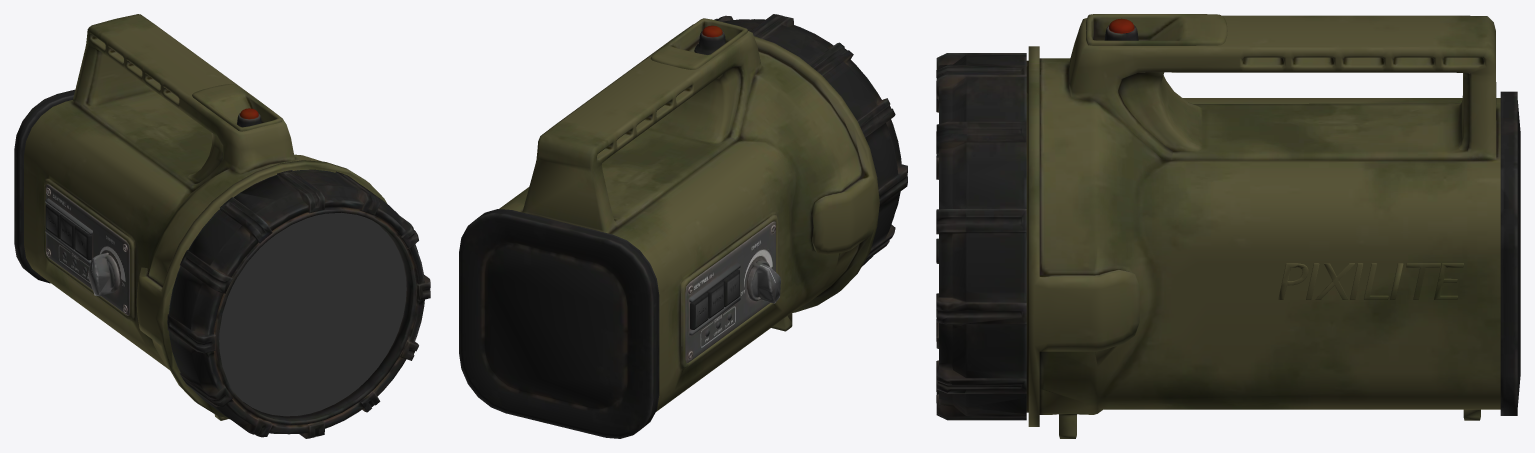
Rendered from portable_searchlight.glb.
The picture shows the model from 3 angles, left to right: view 1: azimuth 30°, elevation 25°; view 2: azimuth 150°, elevation 25°; view 3: azimuth 270°, elevation 25°; orthographic projection. The views are drawn at different scales.
Visible parts, largest first — view 1: portable_searchlight; view 2: portable_searchlight; view 3: portable_searchlight.
Part boxes in pixels (x1,y1,x2,y2): portable_searchlight: [14, 14, 430, 438]; portable_searchlight: [459, 14, 907, 438]; portable_searchlight: [936, 14, 1520, 438].
Size of the model in its own units: 0.1653 by 0.1854 by 0.2534.
Materials: 2 (2 with a texture image).
